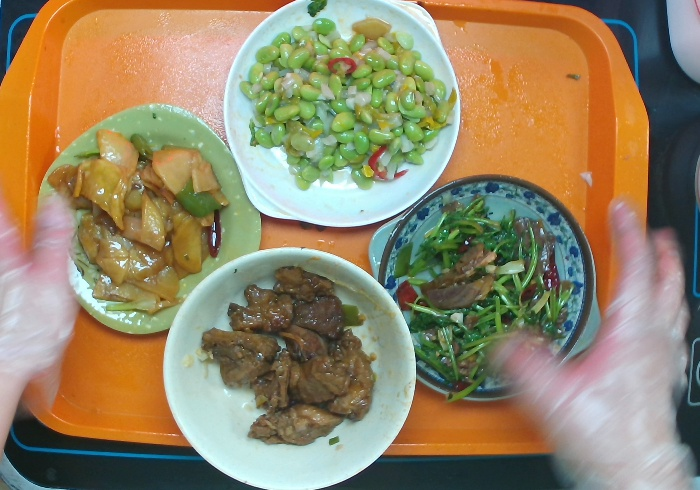NLDX-Bai_Se_Shuang_Er_Die: (222, 1, 462, 227)
NLDX-Bai_Se_Yuan_Wan: (157, 239, 421, 490)
NLDX-Lv_Hua_Fang_Die: (28, 99, 264, 340)
NLDX-Qing_Hua_Shuang_Er_Die: (361, 168, 608, 410)
